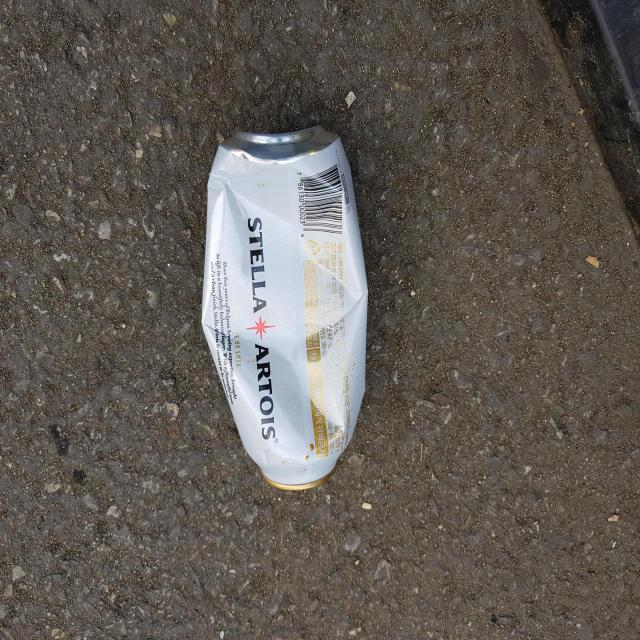can: (202, 125, 368, 490)
